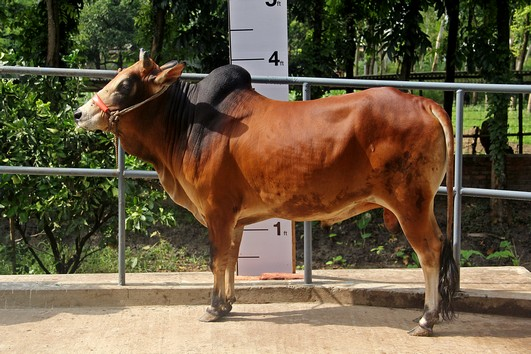cow: (69, 45, 464, 344)
